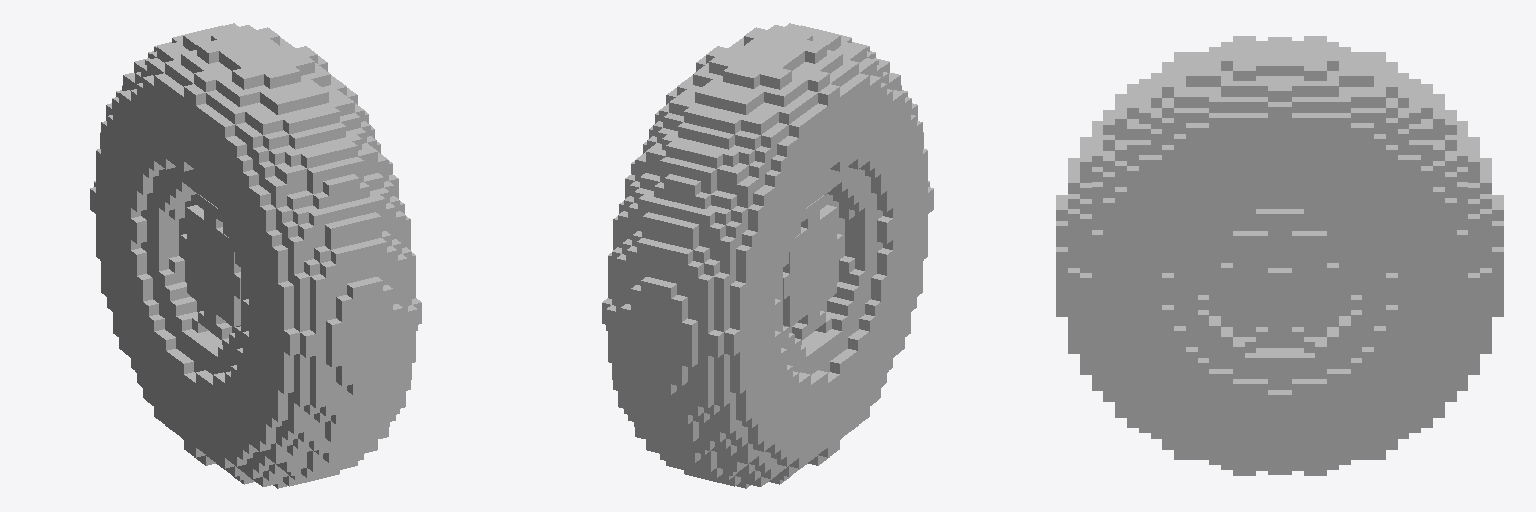
File: btr_82_wheel_02.obj
3 renders of one model, left to right at view 1: azimuth 30°, elevation 25°; view 2: azimuth 150°, elevation 25°; view 3: azimuth 270°, elevation 25°, orthographic.
Visible parts, largest first — view 1: Untitled; view 2: Untitled; view 3: Untitled.
Part boxes in pixels (x1,y1,x2,y2): Untitled: (90,23,421,488); Untitled: (602,23,933,488); Untitled: (1056,36,1503,475).
Bounding box in the file's own units: 1.3 × 3.8 × 3.8.